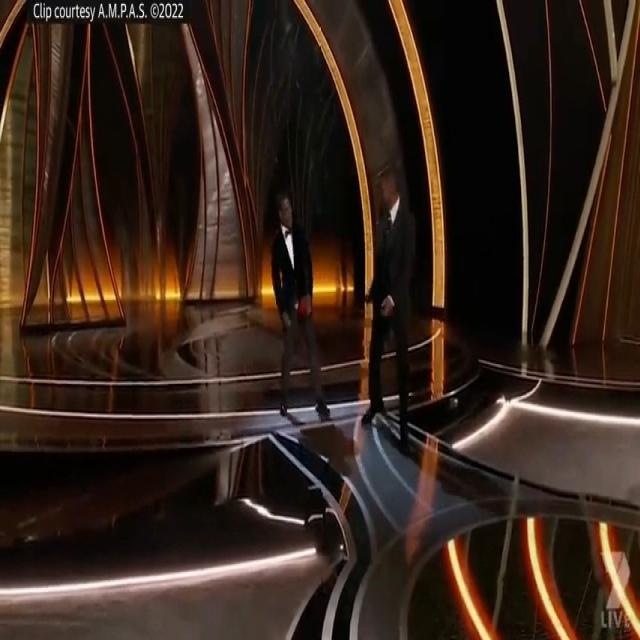non-fight: (263, 147, 420, 452)
